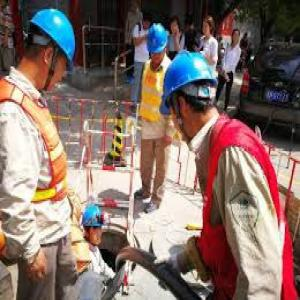blue: (164, 52, 218, 142), (22, 6, 78, 92), (82, 205, 105, 247), (146, 24, 169, 63)
none: (201, 17, 215, 38), (169, 16, 181, 35), (231, 28, 241, 48)
